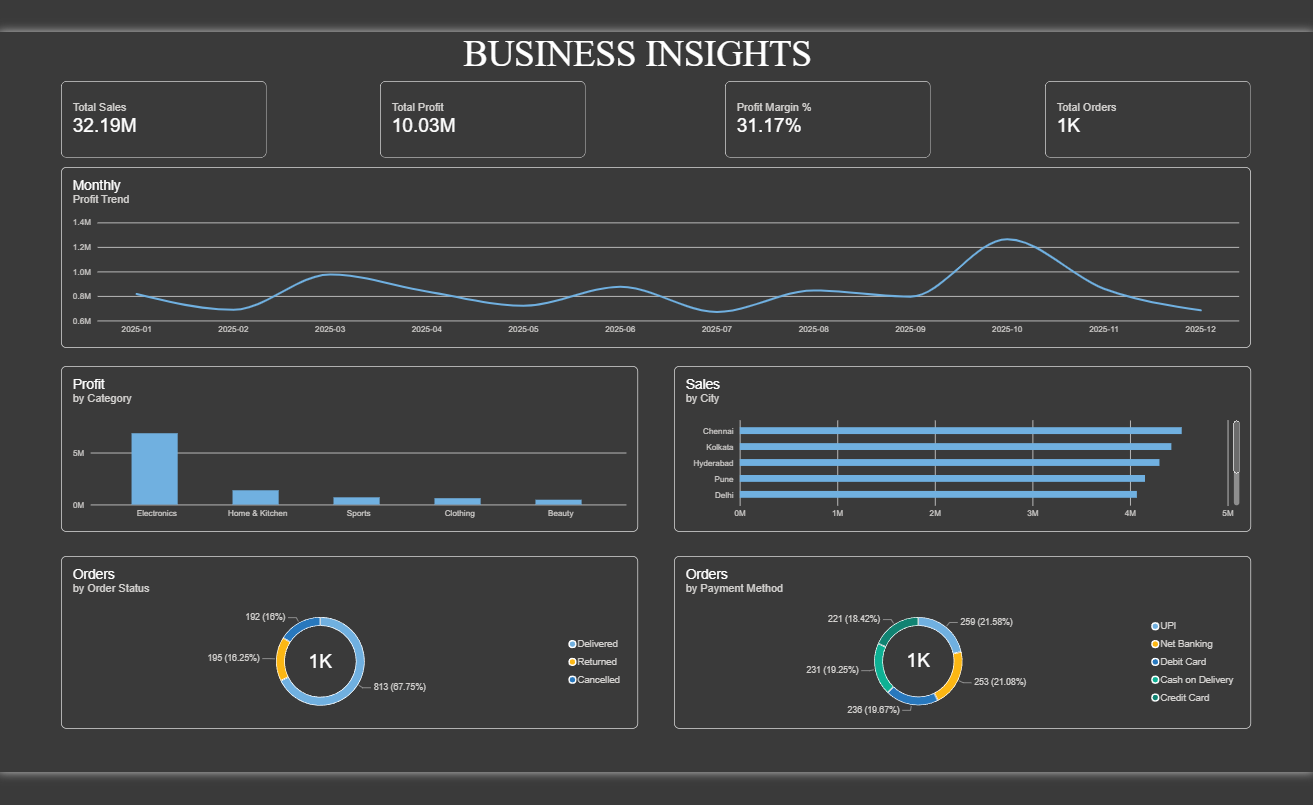

Layout of this report page (visuals, bound fields, positions):
{"tool":"powerbi","page":{"name":"Business  Insights","canvas":[1920,1080],"ordinal":2},"visuals":[{"type":"textbox","box":[677,0,512.1,71.5],"z":0},{"type":"cardVisual","fields":{"Data":["DateTable.Total Sales"]},"box":[91.9,71.5,300.5,112.3],"z":1},{"type":"cardVisual","fields":{"Data":["DateTable.Total Profit"]},"box":[557.3,71.5,300.5,112.3],"z":2},{"type":"cardVisual","fields":{"Data":["DateTable.Profit Margin %"]},"box":[1060.7,71.5,300.5,112.3],"z":3},{"type":"cardVisual","fields":{"Data":["DateTable.Total Orders"]},"box":[1527.5,71.5,300.5,112.3],"z":4},{"type":"lineChart","title":"Monthly","fields":{"Category":["DateTable.Year Month"],"Y":["DateTable.Total Profit"]},"box":[91.9,197,1736.2,264.1],"z":5},{"type":"clusteredColumnChart","title":"Profit","fields":{"Category":["ecommerce_sales_cleaned.Category"],"Y":["DateTable.Total Profit"]},"box":[91.9,487.3,841.8,242.2],"z":6},{"type":"clusteredBarChart","title":"Sales","fields":{"Category":["ecommerce_sales_cleaned.City"],"Y":["DateTable.Total Sales"]},"box":[986.3,487.3,841.8,242.2],"z":7},{"type":"donutChart","title":"Orders","fields":{"Category":["ecommerce_sales_cleaned.Order_Status"],"Y":["DateTable.Total Orders"]},"box":[91.9,764.5,841.8,252.4],"z":8},{"type":"donutChart","title":"Orders","fields":{"Category":["ecommerce_sales_cleaned.Payment_Method"],"Y":["DateTable.Total Orders"]},"box":[986.3,764.5,842,252],"z":9}]}

Visuals, with their boxes on the page's 1920x1080 design canvas (x1, y1, x2, y2). These are canvas units, not pixel positions in the 1313x805 screenshot, which may show the page scaled, cropped or inside an application window:
textbox: 677:0:1189:72
cardVisual - DateTable.Total Sales: 92:72:392:184
cardVisual - DateTable.Total Profit: 557:72:858:184
cardVisual - DateTable.Profit Margin %: 1061:72:1361:184
cardVisual - DateTable.Total Orders: 1528:72:1828:184
"Monthly" lineChart: 92:197:1828:461
"Profit" clusteredColumnChart: 92:487:934:730
"Sales" clusteredBarChart: 986:487:1828:730
"Orders" donutChart: 92:764:934:1017
"Orders" donutChart: 986:764:1828:1016
